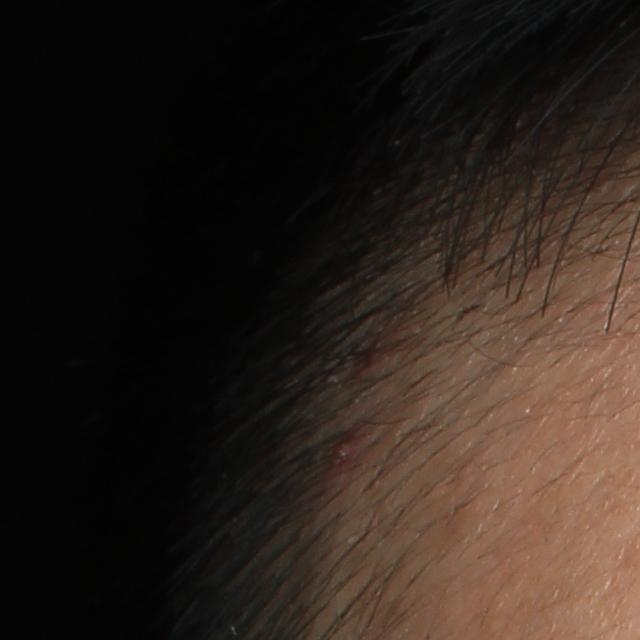papule: (322, 428, 370, 473)
